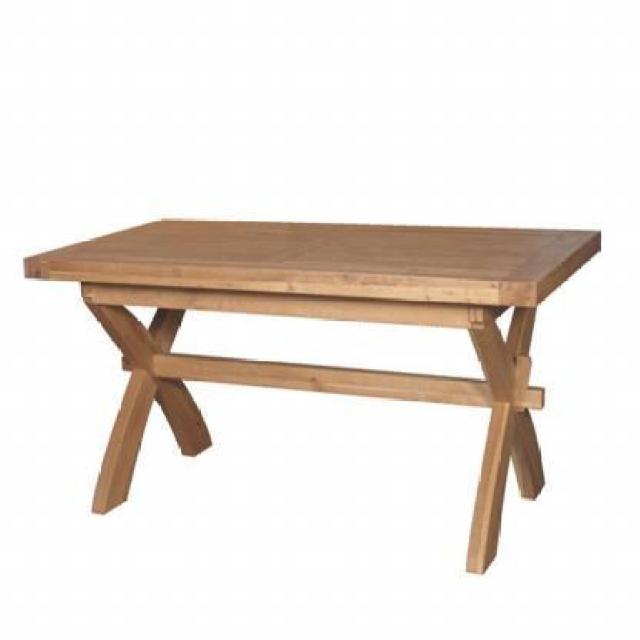tables: (21, 215, 602, 574)
